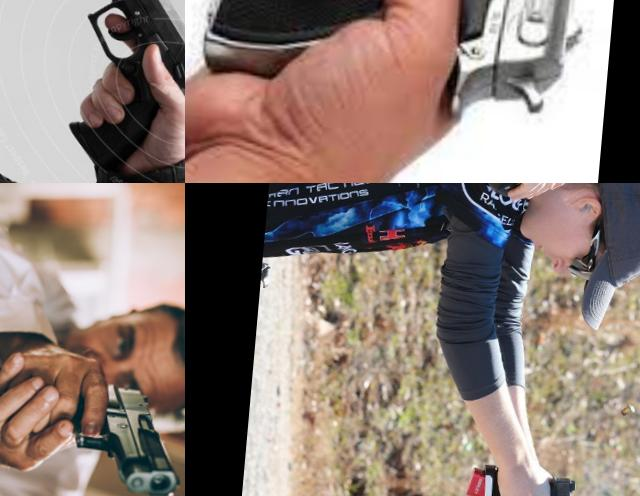handgun: (185, 0, 622, 183), (57, 0, 185, 183), (61, 378, 185, 496), (454, 460, 582, 496)
